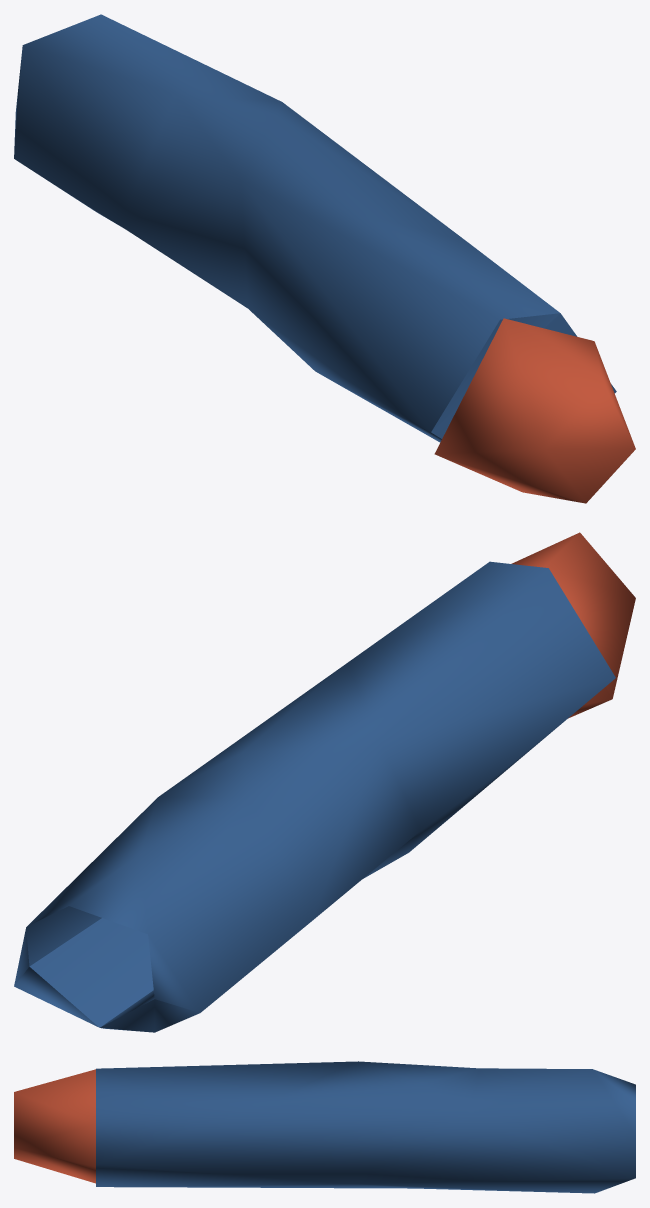
Rendered from model_nerfDart.fbx.
3 views of the same model, one above another, from view 1: azimuth 30°, elevation 25°; view 2: azimuth 150°, elevation 25°; view 3: azimuth 270°, elevation 25° (orthographic). The views are drawn at different scales.
Parts seen in each view (by area): view 1: mesh_nerfDart; view 2: mesh_nerfDart; view 3: mesh_nerfDart.
Part boxes in pixels (x1,y1,x2,y2): mesh_nerfDart: [14, 14, 635, 503]; mesh_nerfDart: [14, 532, 635, 1032]; mesh_nerfDart: [14, 1061, 635, 1193].
Size of the model in its own units: 2.96 by 2.9 by 14.13.
